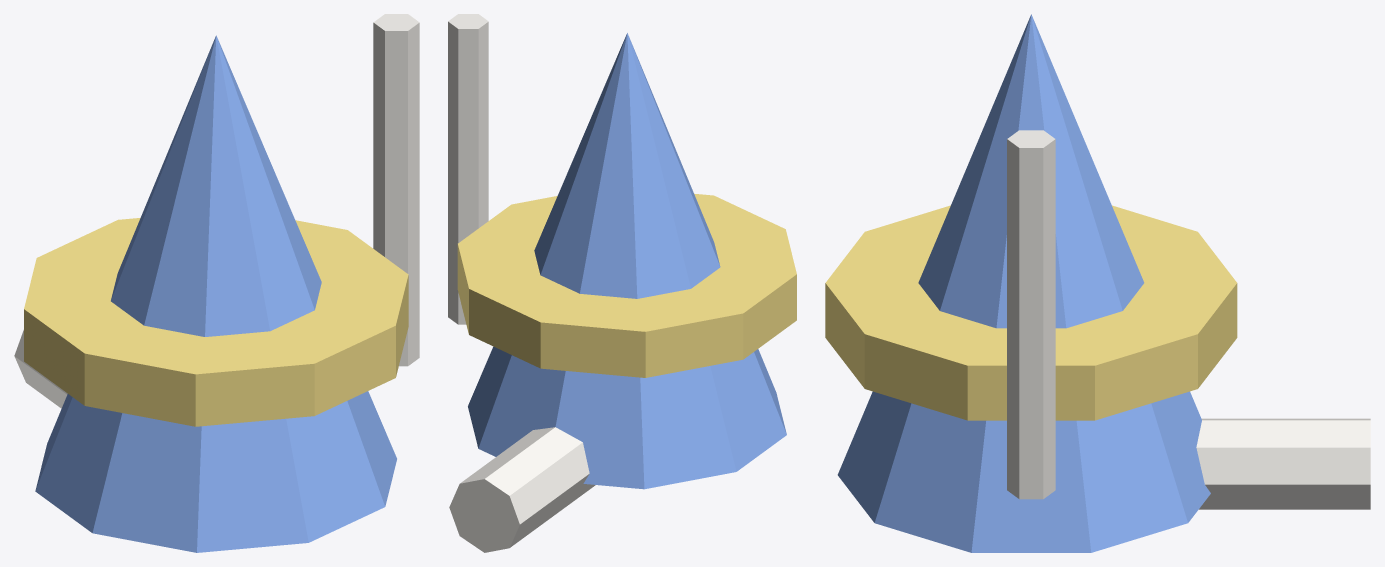
Rendered from tool_cyclone.glb.
3 renders of one model, left to right at view 1: azimuth 30°, elevation 25°; view 2: azimuth 150°, elevation 25°; view 3: azimuth 270°, elevation 25°, orthographic. The views are drawn at different scales.
Visible parts, largest first — view 1: cone, band, handle, nozzle; view 2: cone, band, nozzle, handle; view 3: cone, band, handle, nozzle.
Part boxes in pixels (box(x1,y1,x2,y2)): cone: box(35, 35, 396, 552); band: box(24, 218, 408, 426); handle: box(373, 14, 419, 366); nozzle: box(14, 330, 67, 408); cone: box(468, 33, 786, 489); band: box(457, 193, 796, 377); nozzle: box(449, 427, 595, 552); handle: box(448, 14, 488, 324); cone: box(837, 14, 1210, 552); band: box(825, 205, 1237, 420); handle: box(1007, 130, 1055, 499); nozzle: box(1196, 418, 1370, 509).
Bounding box in the file's own units: 0.359 × 0.45 × 0.45.
